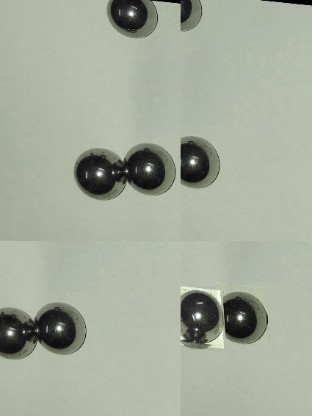ironball: (72, 140, 124, 207), (177, 130, 230, 191), (214, 279, 266, 341), (34, 299, 86, 357), (125, 138, 174, 195), (180, 282, 221, 346), (105, 0, 161, 45), (0, 300, 39, 361), (171, 1, 204, 29)
